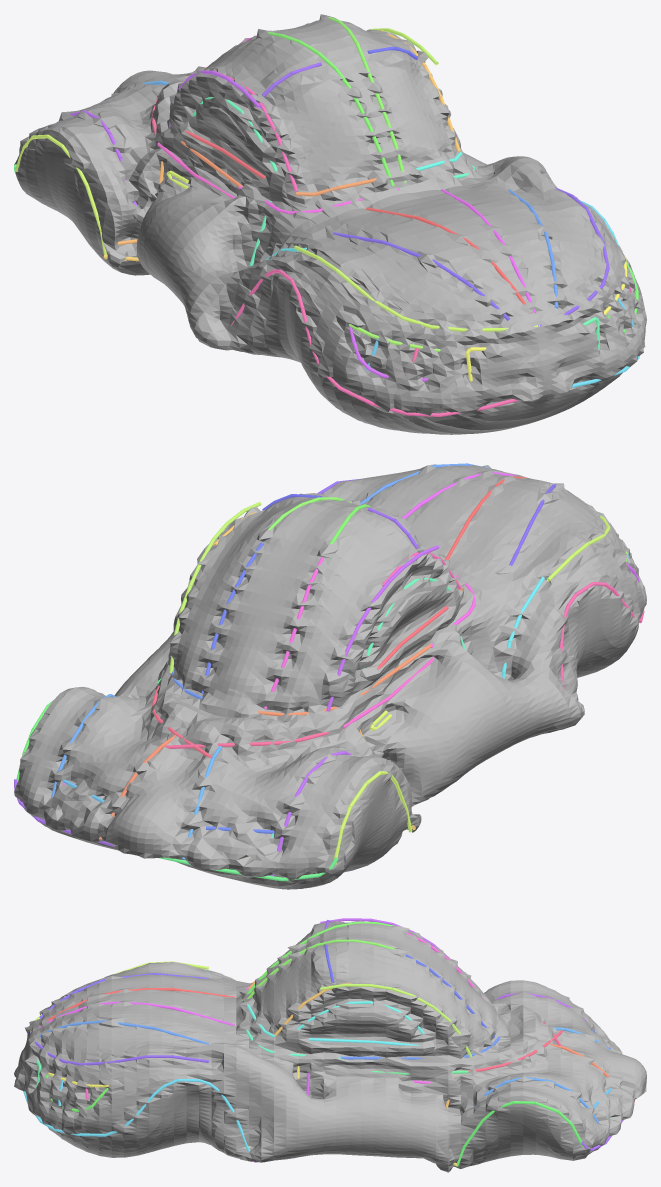
Rendered from author1_car.gltf.
The picture shows the model from 3 angles, top to bottom: view 1: azimuth 30°, elevation 25°; view 2: azimuth 150°, elevation 25°; view 3: azimuth 270°, elevation 25°; orthographic projection. The views are drawn at different scales.
Bounding box in the file's own units: 0.4673 × 0.3216 × 0.8875.
